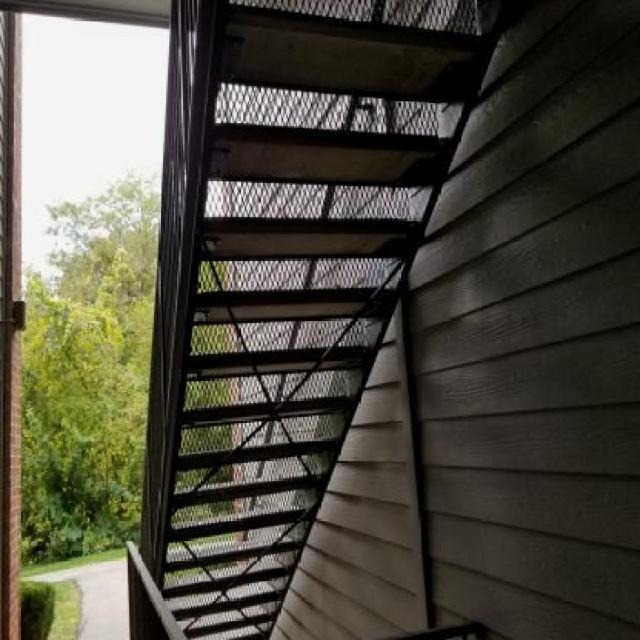stair: (92, 0, 543, 640)
